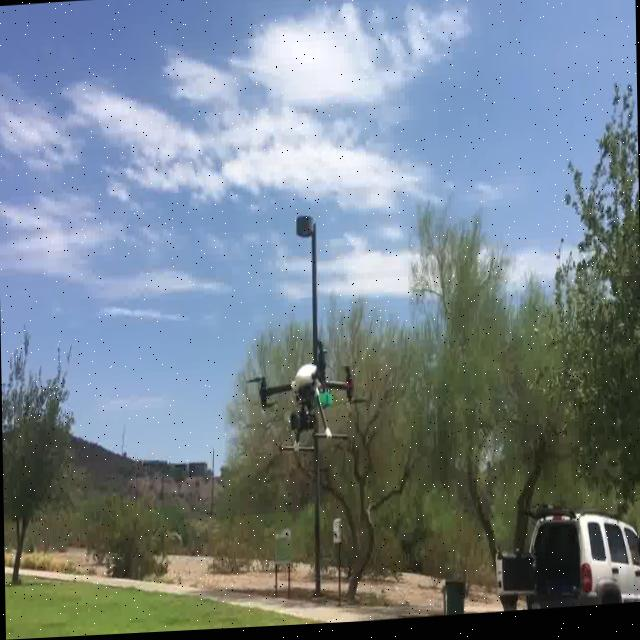drone: (254, 351, 360, 459)
